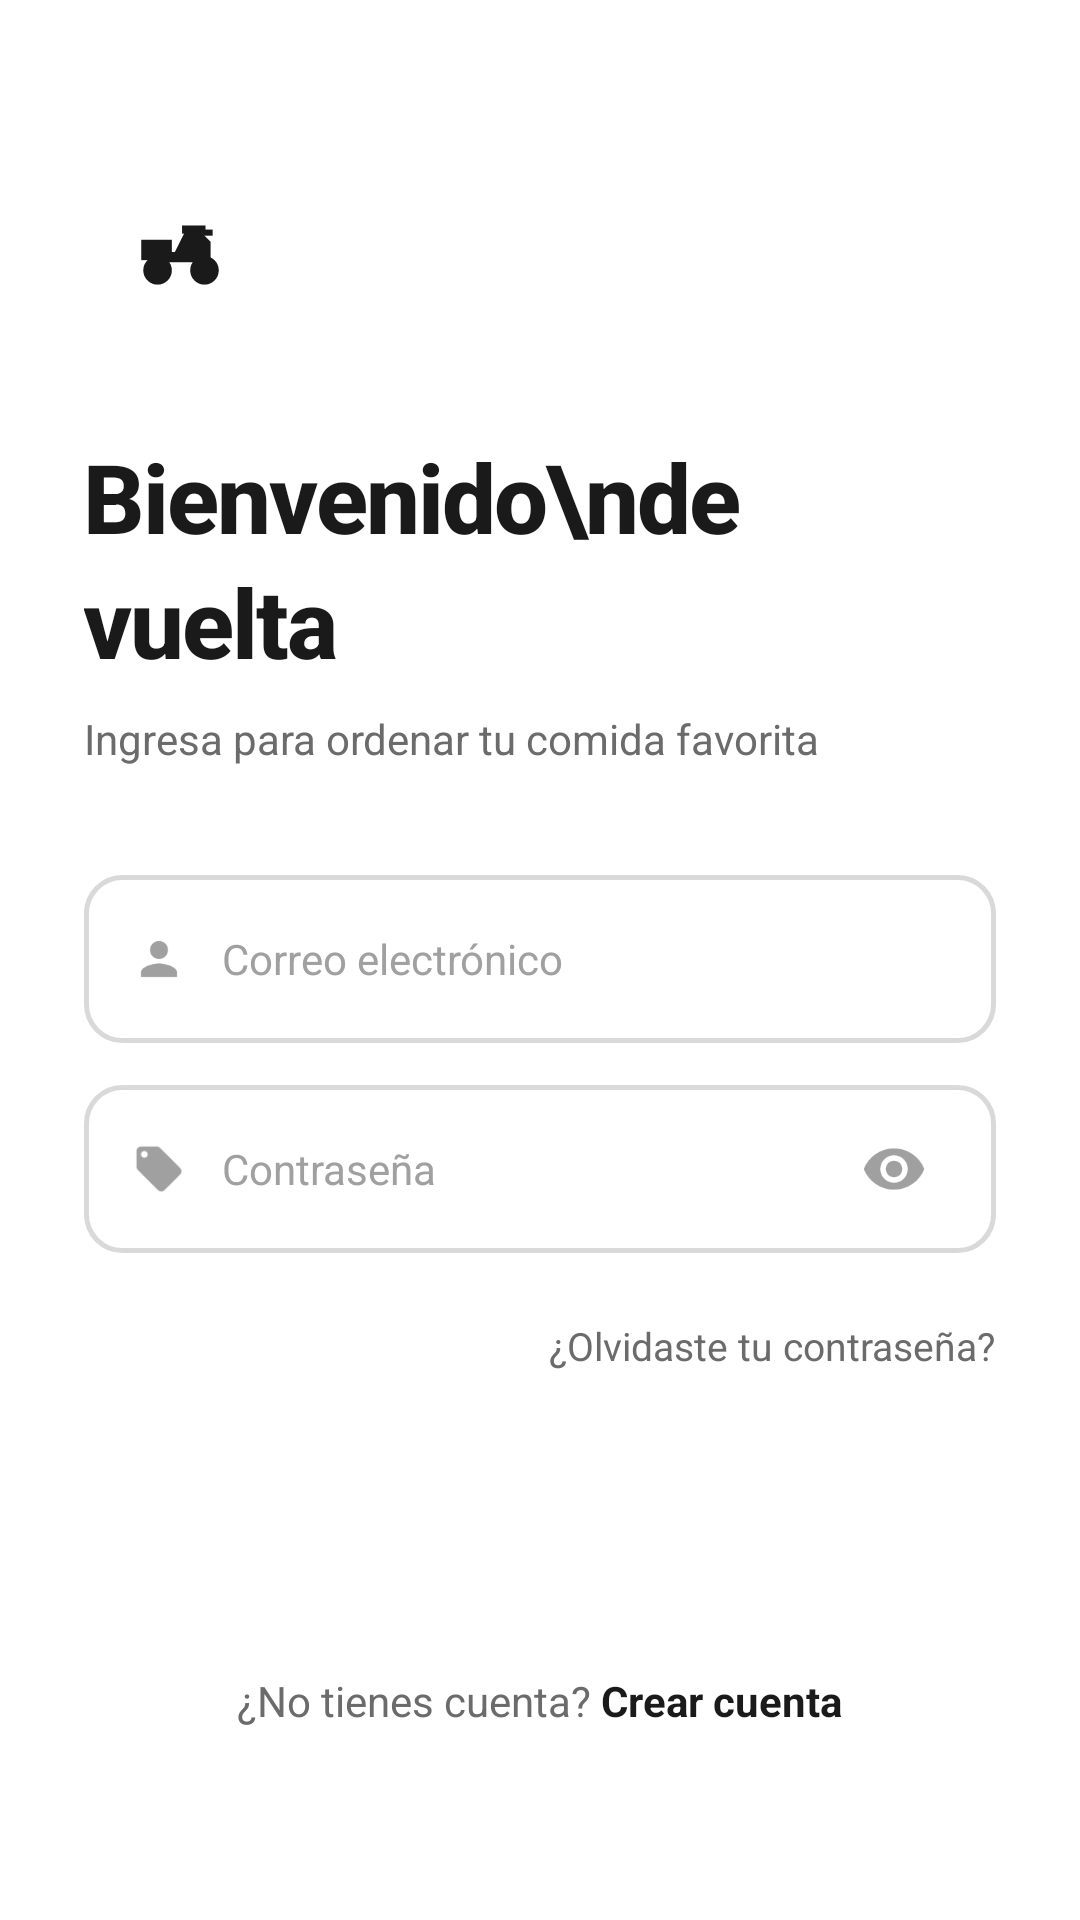

Named icons in this screenshot (1080x1920) and their centers, (x,y):
person: (159,959)
scooter: (180,255)
tag: (159,1169)
